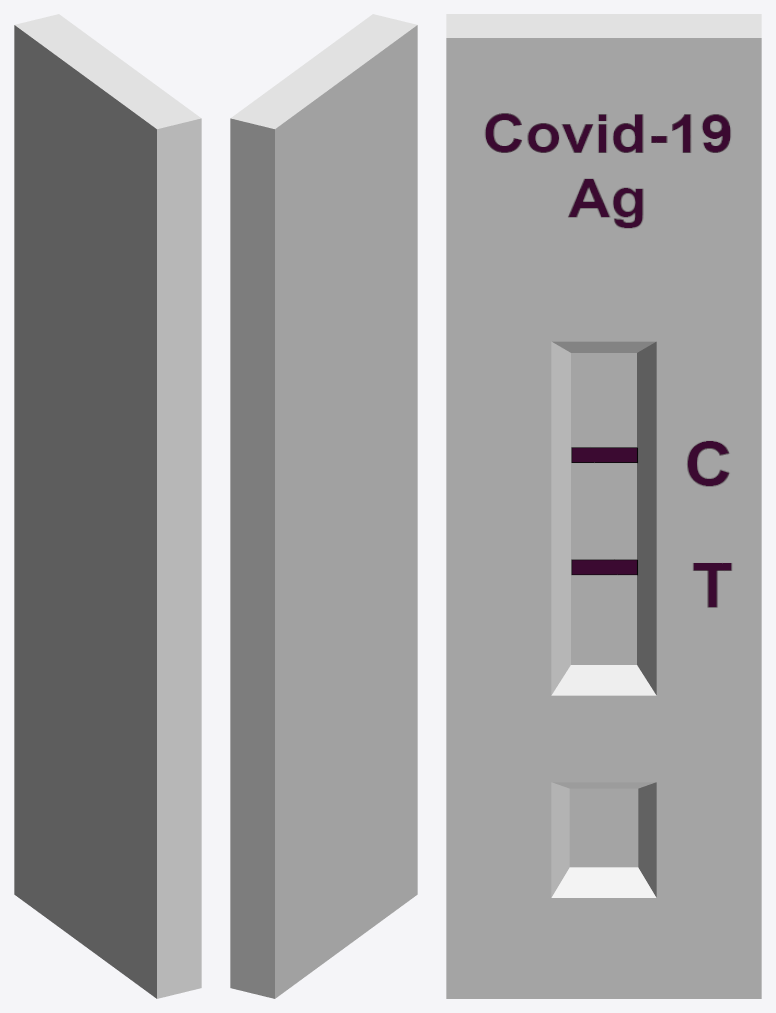
Rendered from covid_test_positive.fbx.
3 views of the same model, side by side, from view 1: azimuth 30°, elevation 25°; view 2: azimuth 150°, elevation 25°; view 3: azimuth 270°, elevation 25° (orthographic). The views are drawn at different scales.
Parts seen in each view (by area): view 1: covid_test; view 2: covid_test; view 3: covid_test.
Boxes of the visible parts, left/top/right/bottom form: covid_test: left=14, top=14, right=201, bottom=998; covid_test: left=230, top=14, right=417, bottom=998; covid_test: left=446, top=14, right=761, bottom=998.
Bounding box in the file's own units: 12.18 × 227 × 67.44.
